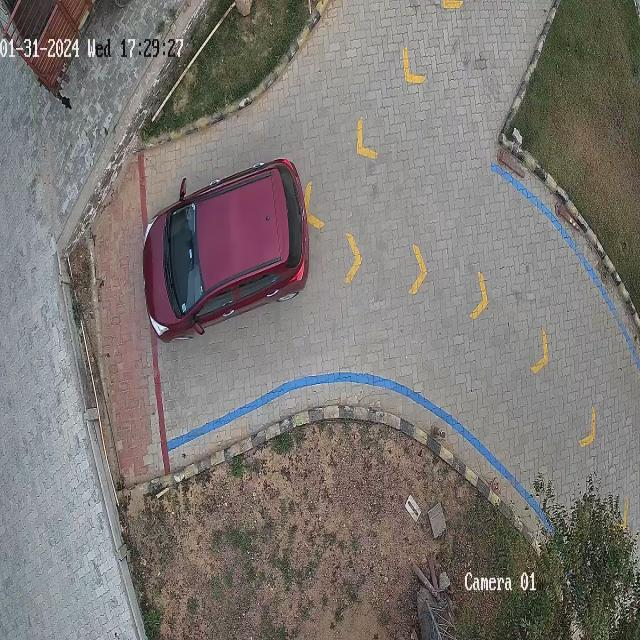car: (142, 160, 310, 342)
